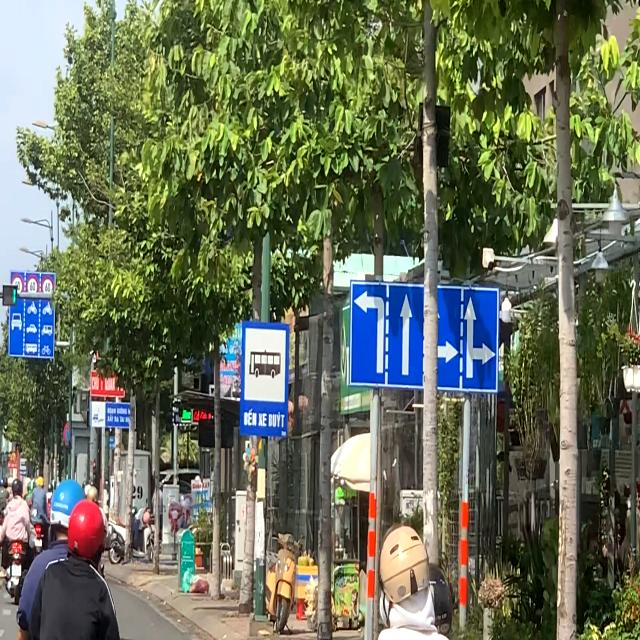P.127: (11, 274, 24, 298), (26, 275, 39, 298), (41, 276, 54, 298)
R.434: (238, 318, 290, 441)
